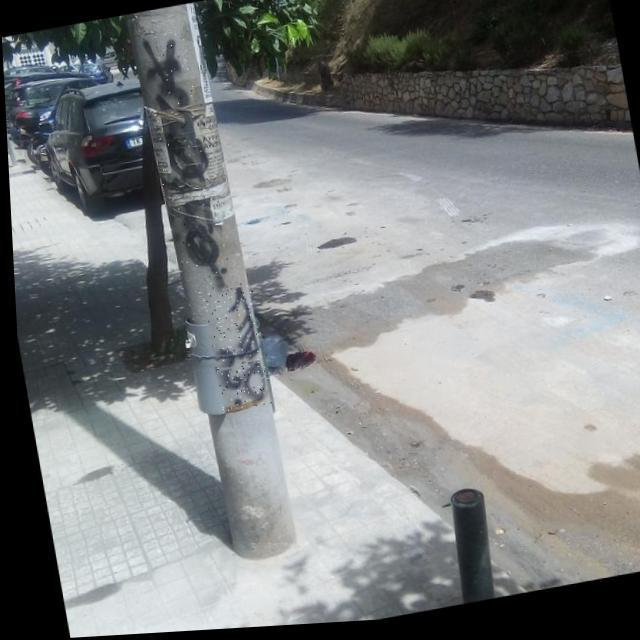-: (132, 30, 230, 302), (198, 284, 268, 414)
